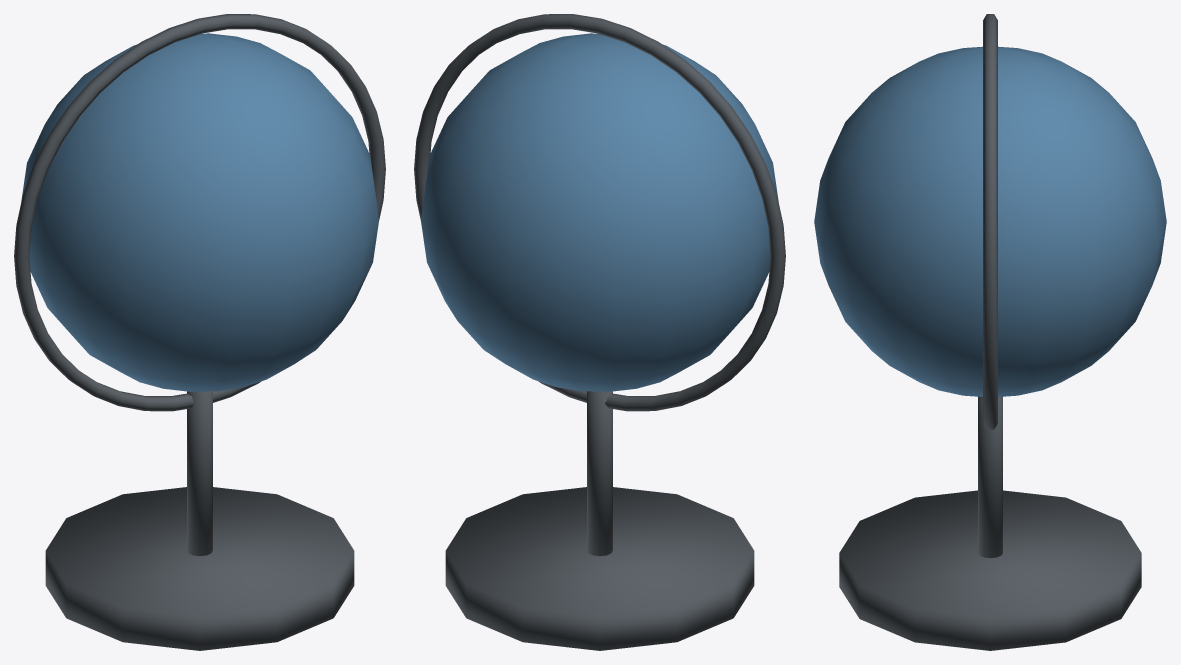
The model's file is atelier-globe.glb.
3 renders of one model, left to right at view 1: azimuth 30°, elevation 25°; view 2: azimuth 150°, elevation 25°; view 3: azimuth 270°, elevation 25°, orthographic. The views are drawn at different scales.
Visible parts, largest first — view 1: artBlue.019, metal.103; view 2: artBlue.019, metal.103; view 3: artBlue.019, metal.103.
Part boxes in pixels (left/top/right/bottom): artBlue.019: left=21, top=33, right=378, bottom=391; metal.103: left=14, top=14, right=385, bottom=650; artBlue.019: left=421, top=33, right=778, bottom=391; metal.103: left=414, top=14, right=785, bottom=650; artBlue.019: left=814, top=46, right=1166, bottom=396; metal.103: left=839, top=14, right=1141, bottom=650.
Size of the model in its own units: 0.3304 by 0.4852 by 0.28.
